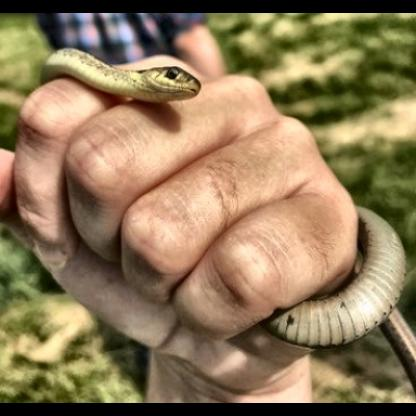Snake: (36, 35, 214, 116)
